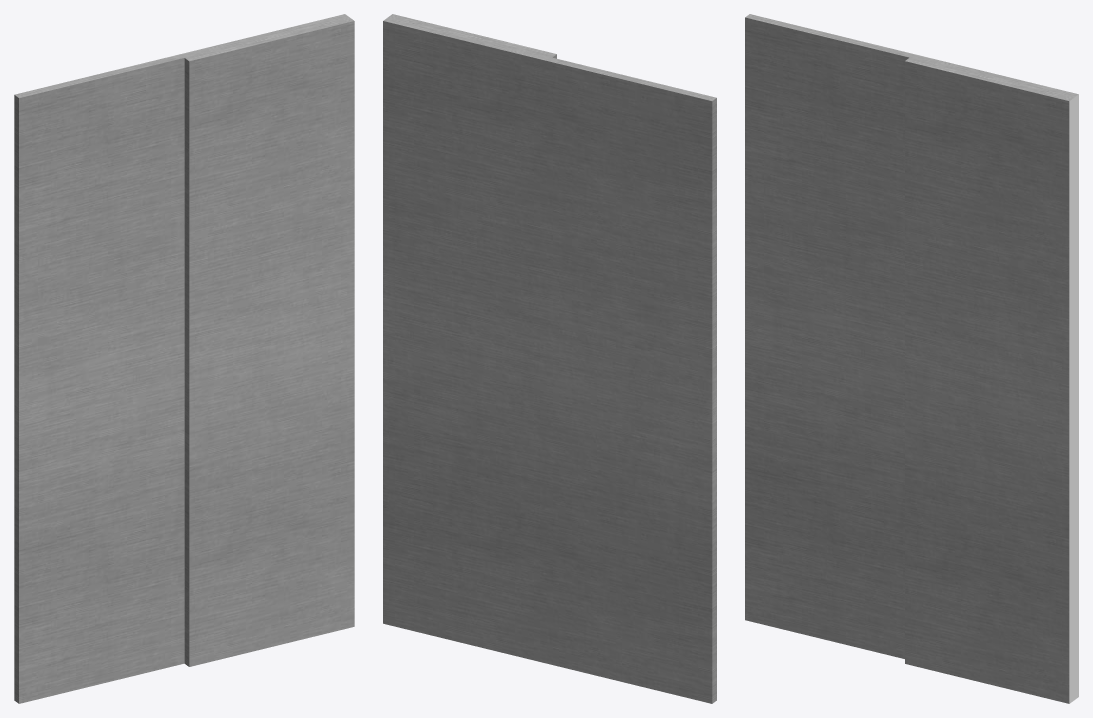
The model's file is PortasElevador.dae.
3 views of the same model, side by side, from view 1: azimuth 30°, elevation 25°; view 2: azimuth 150°, elevation 25°; view 3: azimuth 330°, elevation 25° (orthographic).
Visible parts, largest first — view 1: instance_0; view 2: instance_0; view 3: instance_0 (×2).
Part boxes in pixels (left/top/right/bottom): instance_0: left=14, top=14, right=354, bottom=703; instance_0: left=383, top=14, right=716, bottom=703; instance_0 (×2): left=745, top=14, right=1078, bottom=703.
Size of the model in its own units: 47.24 by 2.36 by 82.68.
2 materials, 1 textured.
